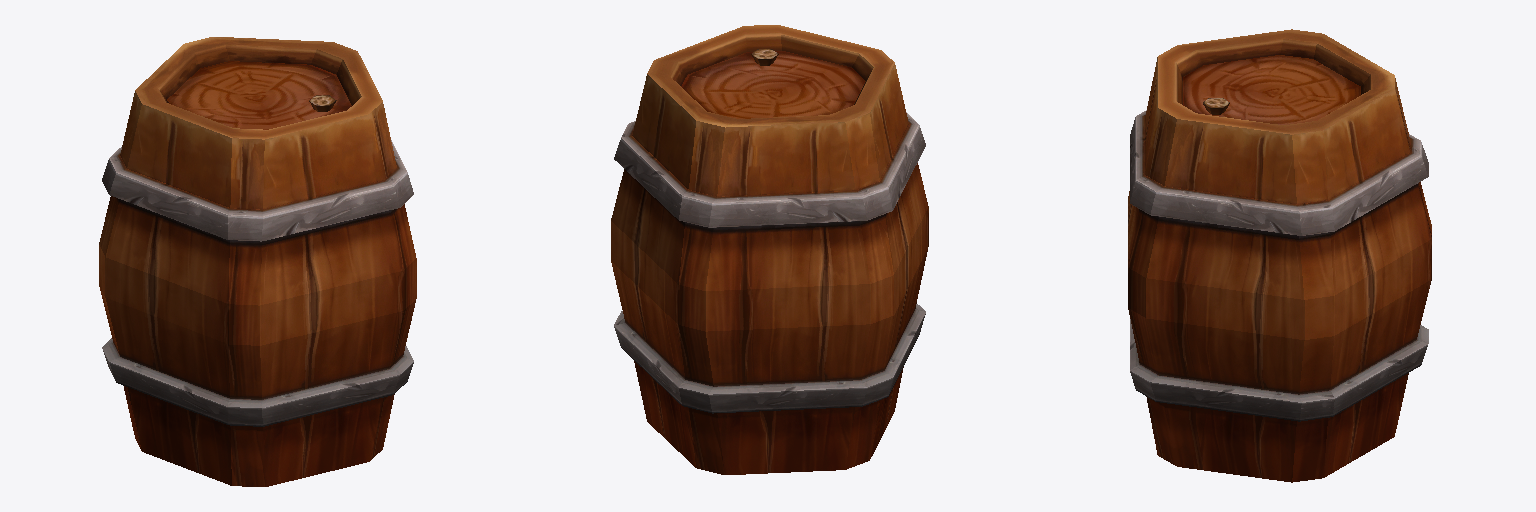
3 renders of one model, left to right at view 1: azimuth 30°, elevation 25°; view 2: azimuth 150°, elevation 25°; view 3: azimuth 270°, elevation 25°, orthographic.
Visible parts, largest first — view 1: barrellowpoly; view 2: barrellowpoly; view 3: barrellowpoly.
Boxes of the visible parts, <box> form: barrellowpoly: <box>99,37,416,486</box>; barrellowpoly: <box>611,25,928,474</box>; barrellowpoly: <box>1128,29,1431,482</box>.
Bounding box in the file's own units: 0.9329 × 1.12 × 0.8872.
Materials: 1 (1 with a texture image).